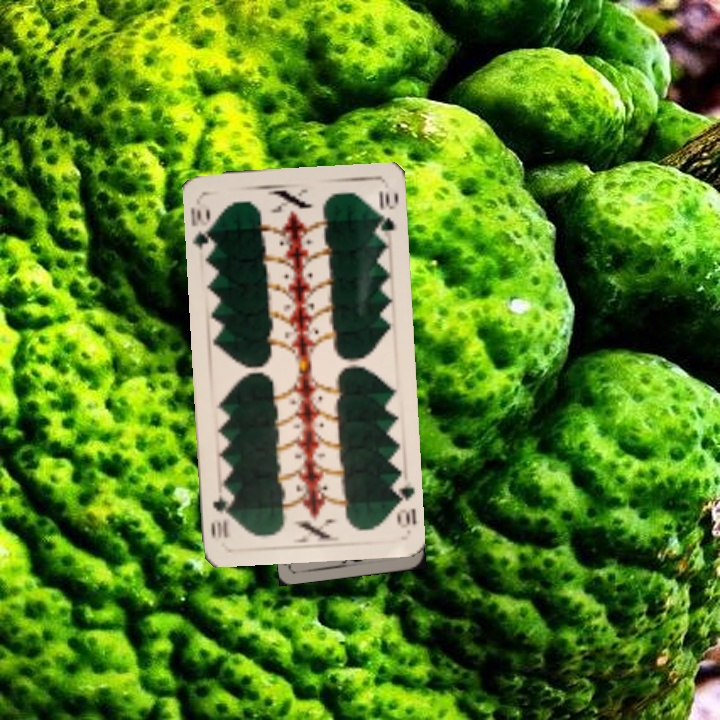G10: (389, 474, 419, 530), (188, 203, 217, 253)
